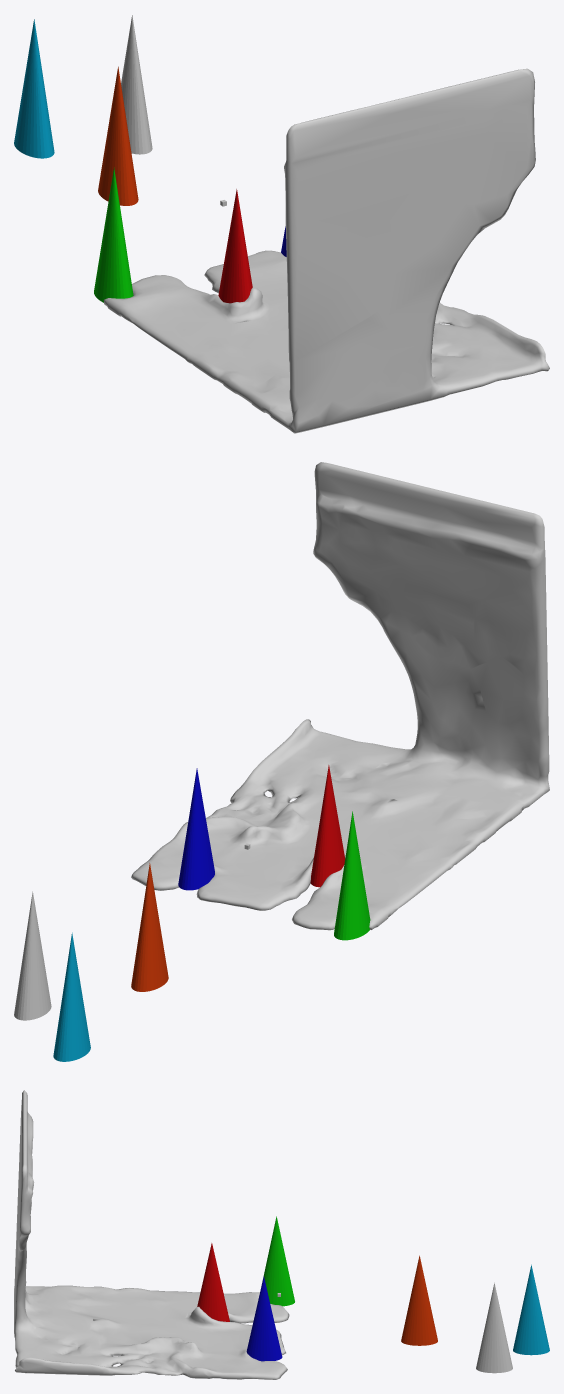
3 renders of one model, top to bottom at view 1: azimuth 30°, elevation 25°; view 2: azimuth 150°, elevation 25°; view 3: azimuth 270°, elevation 25°, orthographic. The views are drawn at different scales.
Visible parts, largest first — view 1: Liquid_Domain, 円錐.005, 円錐.004, 円錐.003, 円錐, 円錐.001; view 2: Liquid_Domain, 円錐, 円錐.004, 円錐.005, 円錐.003, 円錐.002, 円錐.001; view 3: Liquid_Domain, 円錐, 円錐.004, 円錐.005, 円錐.002, 円錐.003, 円錐.001.
Part boxes in pixels (<box>): Liquid_Domain: <box>103,68,549,433</box>; 円錐.005: <box>14,19,54,158</box>; 円錐.004: <box>98,66,138,205</box>; 円錐.003: <box>94,167,133,302</box>; 円錐: <box>121,15,152,154</box>; 円錐.001: <box>218,189,252,303</box>; Liquid_Domain: <box>131,462,549,930</box>; 円錐: <box>14,891,51,1020</box>; 円錐.004: <box>131,863,168,991</box>; 円錐.005: <box>53,932,90,1061</box>; 円錐.003: <box>334,811,370,940</box>; 円錐.002: <box>178,768,214,890</box>; 円錐.001: <box>310,765,345,887</box>; Liquid_Domain: <box>14,1090,289,1379</box>; 円錐: <box>476,1282,512,1373</box>; 円錐.004: <box>401,1255,437,1345</box>; 円錐.005: <box>513,1264,549,1355</box>; 円錐.002: <box>246,1276,282,1361</box>; 円錐.003: <box>262,1216,294,1306</box>; 円錐.001: <box>197,1243,229,1321</box>.
Bounding box in the file's own units: 129 × 158 × 347.
